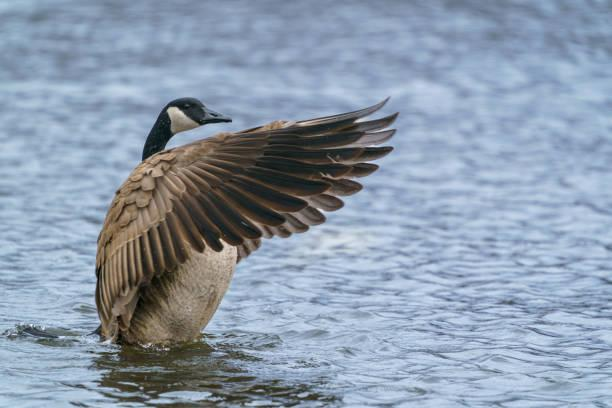Canadian-Goose: (88, 91, 402, 344)
